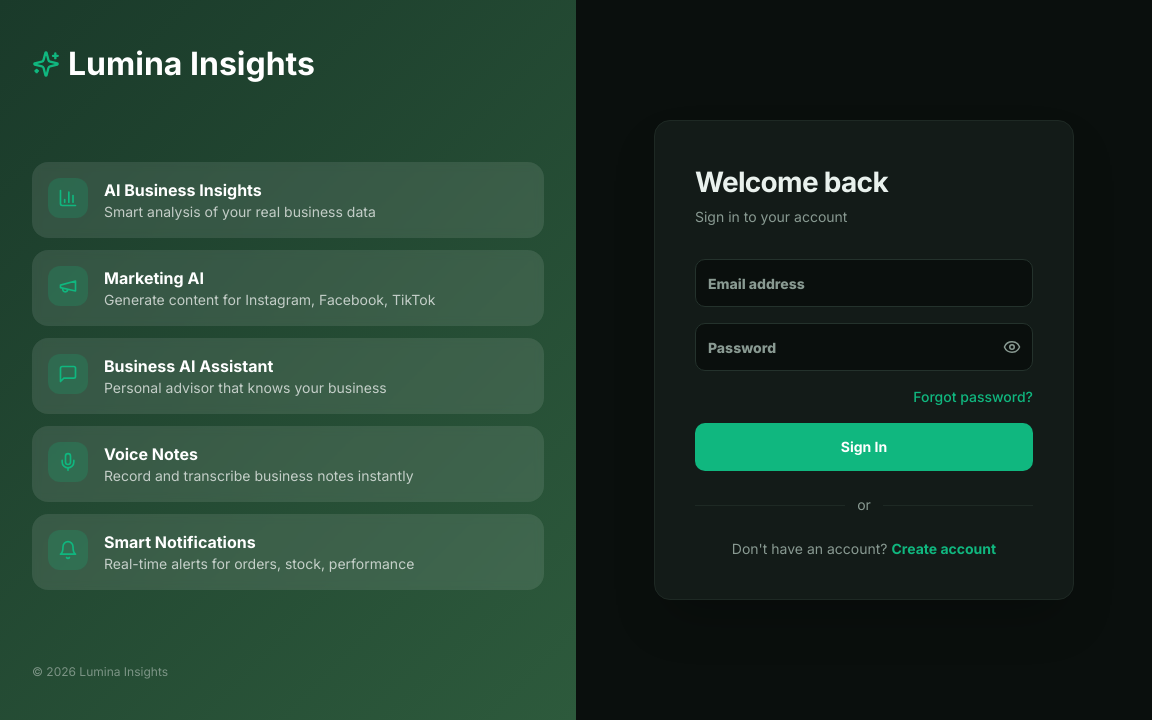
Scenario: Login › offers to resend the confirmation email when the email is not confirmed
The image size is (1152, 720).
Type " owner@example.com " into the field with placeholder "Email address".
click(864, 283); type(" owner@example.com ")  # box [695,259,1033,307]
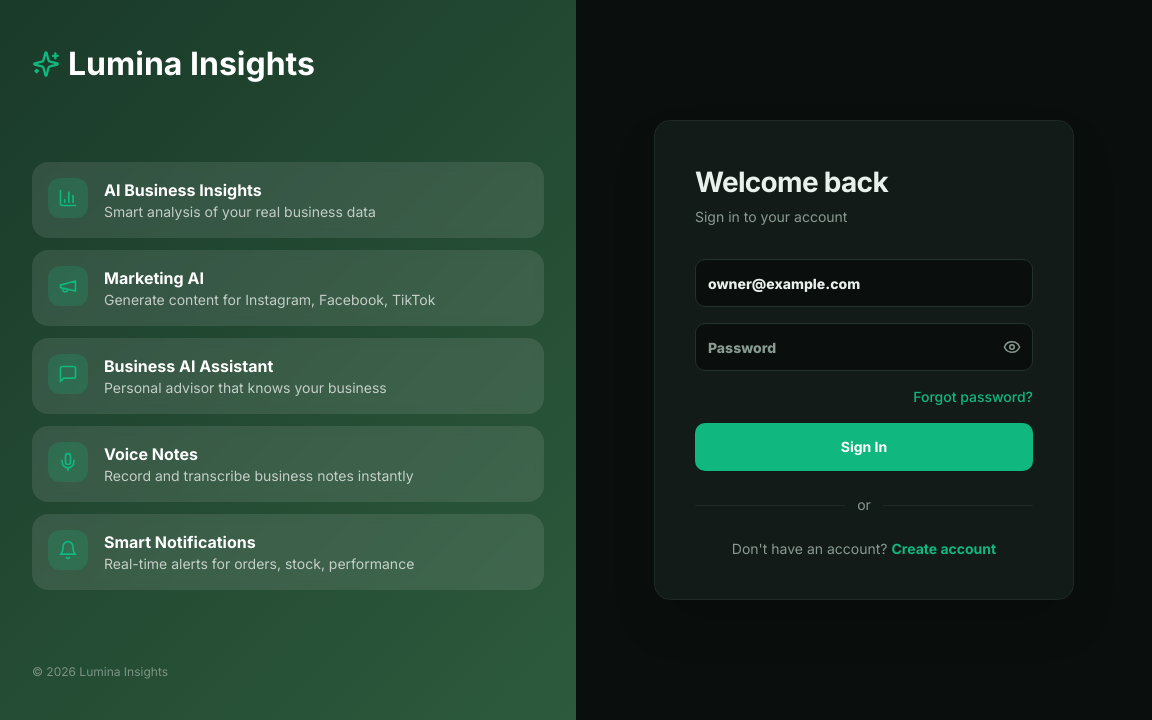
Type "secret-pass" into the password field with placeholder "Password".
click(864, 347); type("secret-pass")  # box [695,323,1033,371]
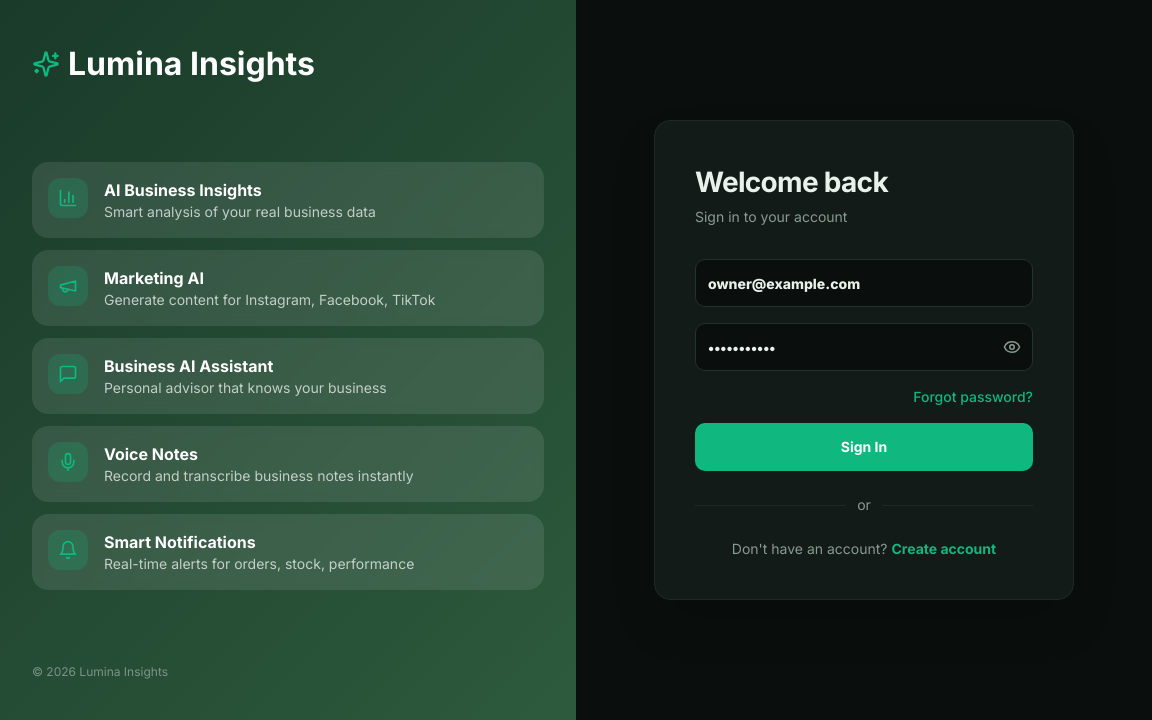
Click the button "Sign In".
click(864, 447)  # box [695,423,1033,471]
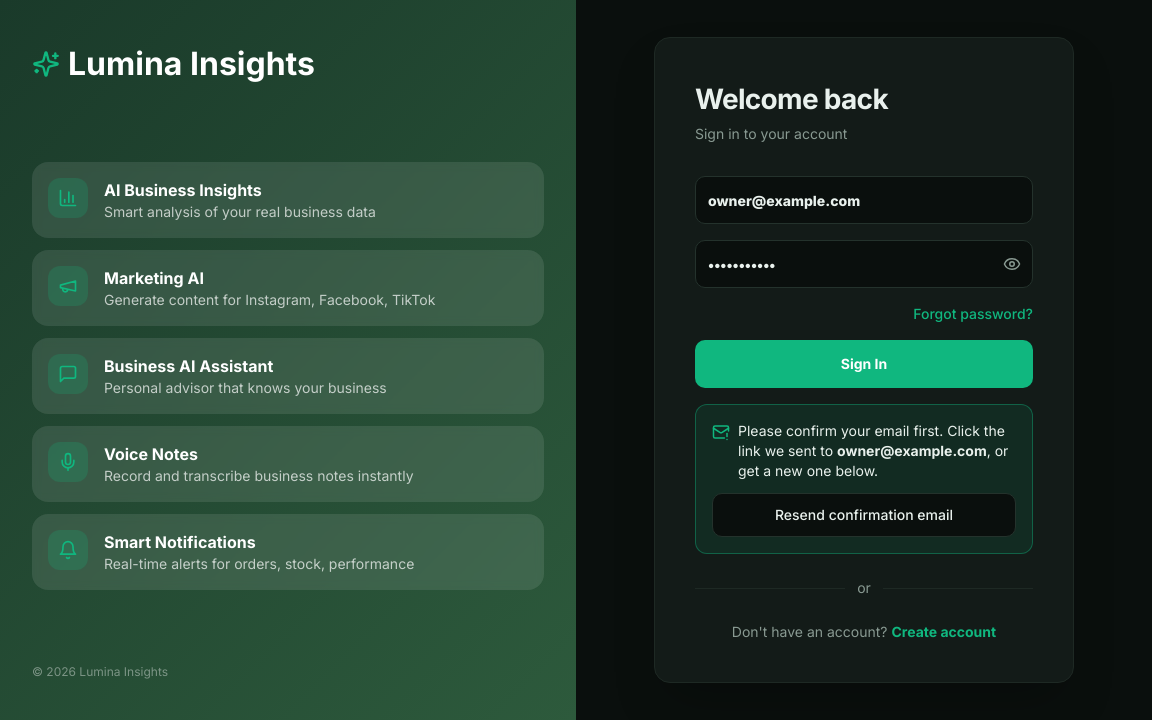
Expected: the text "Please confirm your email first" is shown, [738,422,1005,459]
Click the button "Resend confirmation email".
click(864, 515)  # box [712,493,1016,537]
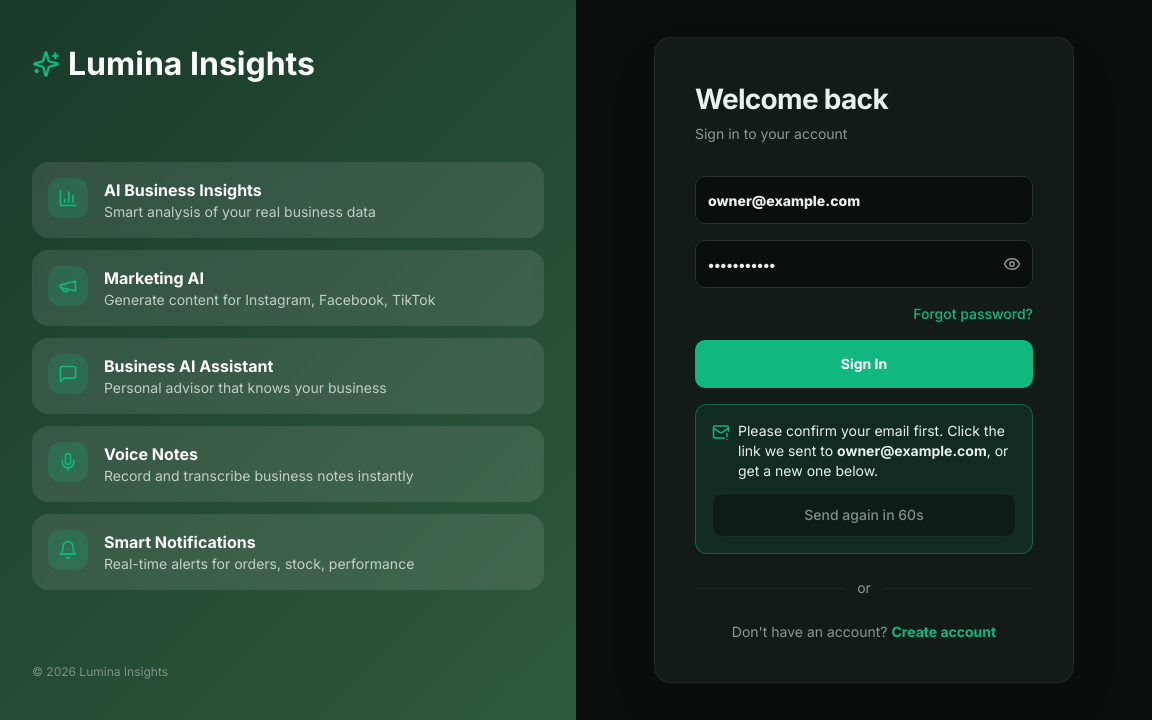
Expected: the button "Send again in 60s" is disabled, [712,493,1016,537]
